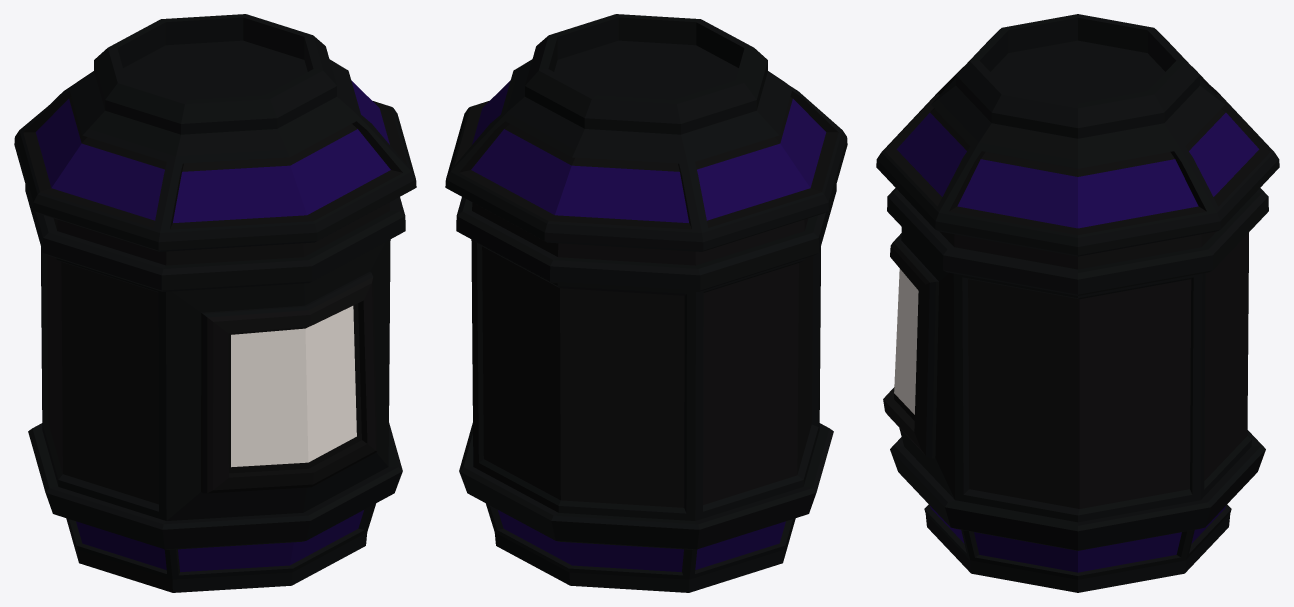
Rendered from ASM - PBR Metallic Roughness.fbx.
The picture shows the model from 3 angles, left to right: view 1: azimuth 30°, elevation 25°; view 2: azimuth 150°, elevation 25°; view 3: azimuth 270°, elevation 25°; orthographic projection.
Visible parts, largest first — view 1: Cylinder (×5); view 2: Cylinder (×4); view 3: Cylinder (×5).
Boxes of the visible parts, x1,y1,x2,y2 form: Cylinder (×5): [14, 14, 416, 592]; Cylinder (×4): [445, 14, 847, 592]; Cylinder (×5): [876, 14, 1279, 592].
Bounding box in the file's own units: 210 × 259 × 203.
